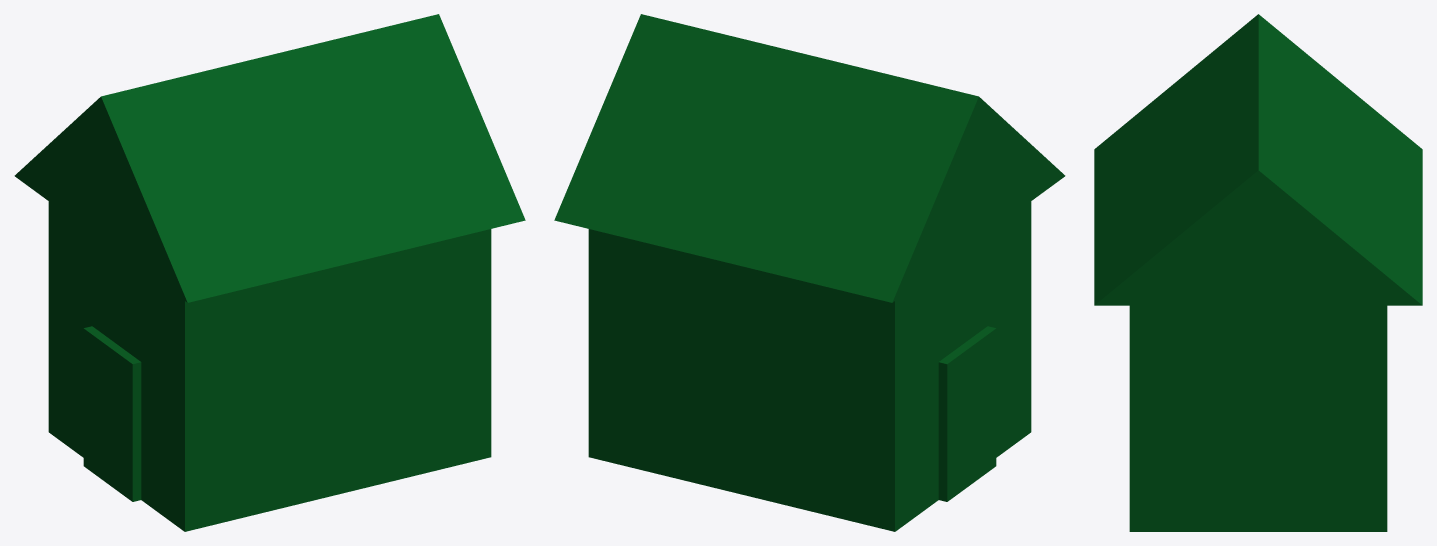
The model's file is HouseMonopoly.fbx.
3 renders of one model, left to right at view 1: azimuth 30°, elevation 25°; view 2: azimuth 150°, elevation 25°; view 3: azimuth 270°, elevation 25°, orthographic. The views are drawn at different scales.
Parts seen in each view (by area): view 1: Cube.001; view 2: Cube.001; view 3: Cube.001.
Part boxes in pixels (x1=…): Cube.001: x1=14, y1=14, x2=525, y2=531; Cube.001: x1=554, y1=14, x2=1065, y2=531; Cube.001: x1=1094, y1=14, x2=1422, y2=531.
Bounding box in the file's own units: 287 × 316 × 255.
